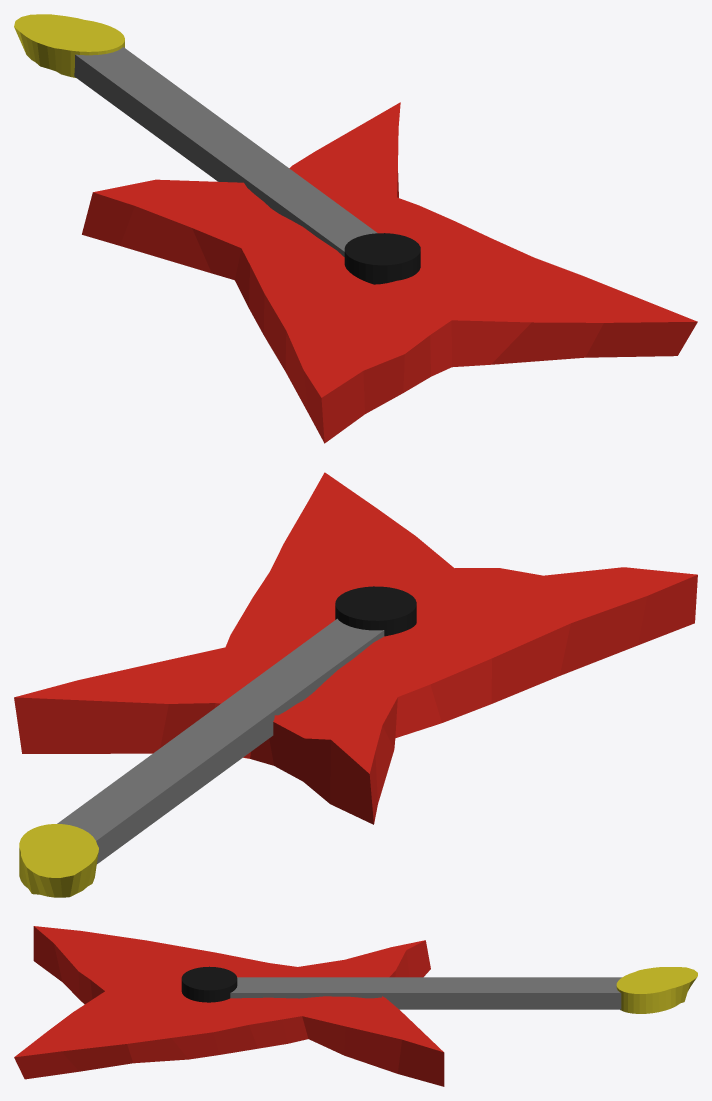
Rendered from guitarraelectrica.fbx.
3 views of the same model, one above another, from view 1: azimuth 30°, elevation 25°; view 2: azimuth 150°, elevation 25°; view 3: azimuth 270°, elevation 25° (orthographic). The views are drawn at different scales.
Parts seen in each view (by area): view 1: Cilindro, Cubo, Cilindro.002, Cilindro.001; view 2: Cilindro, Cubo, Cilindro.002, Cilindro.001; view 3: Cilindro, Cubo, Cilindro.002, Cilindro.001.
Part boxes in pixels (left/top/right/bottom): Cilindro: left=82, top=102, right=697, bottom=443; Cubo: left=74, top=47, right=377, bottom=256; Cilindro.002: left=14, top=14, right=124, bottom=77; Cilindro.001: left=344, top=233, right=420, bottom=284; Cilindro: left=14, top=472, right=697, bottom=824; Cubo: left=57, top=618, right=384, bottom=863; Cilindro.002: left=19, top=824, right=98, bottom=897; Cilindro.001: left=335, top=586, right=416, bottom=636; Cilindro: left=14, top=926, right=444, bottom=1086; Cubo: left=230, top=977, right=621, bottom=1009; Cilindro.002: left=616, top=967, right=697, bottom=1013; Cilindro.001: left=181, top=966, right=237, bottom=1002.
Size of the model in its own units: 288 by 49.25 by 644.
